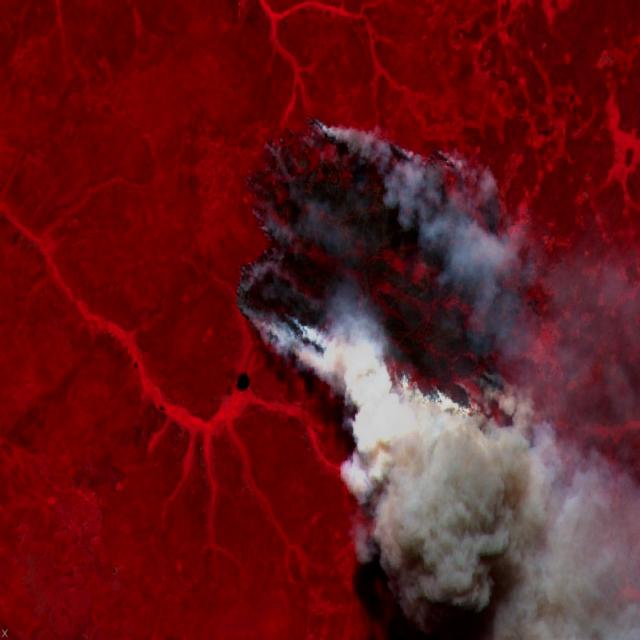fire: (234, 105, 546, 467)
